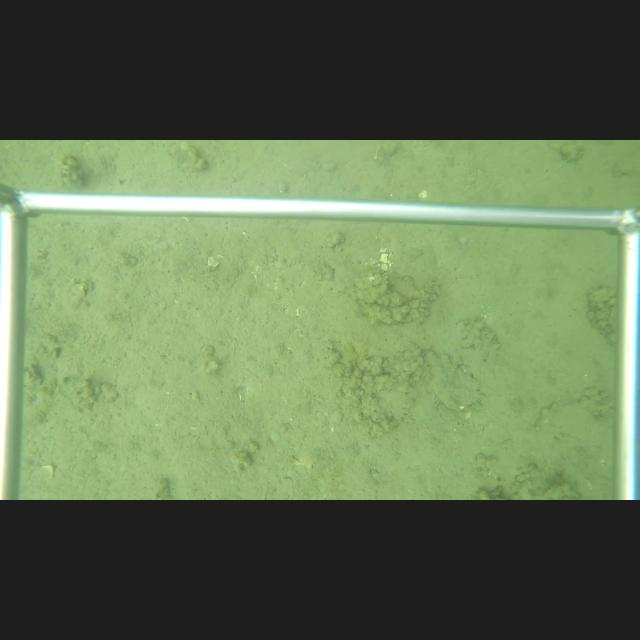Oyster-Closed: (421, 348, 484, 414)
